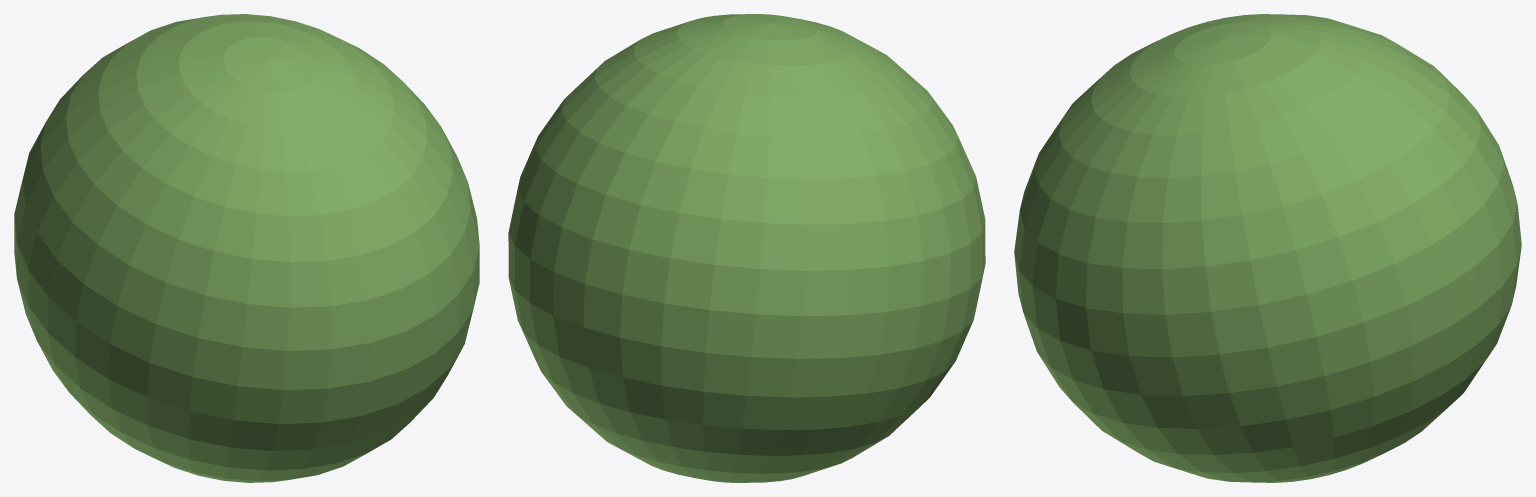
File: bush.glb
3 views of the same model, side by side, from view 1: azimuth 30°, elevation 25°; view 2: azimuth 150°, elevation 25°; view 3: azimuth 270°, elevation 25° (orthographic). The views are drawn at different scales.
Visible parts, largest first — view 1: bush; view 2: bush; view 3: bush.
Boxes of the visible parts, x1,y1,x2,y2 form: bush: (14, 14, 479, 482); bush: (508, 14, 985, 482); bush: (1014, 14, 1521, 482).
Size of the model in its own units: 0.3065 by 0.3075 by 0.3313.
